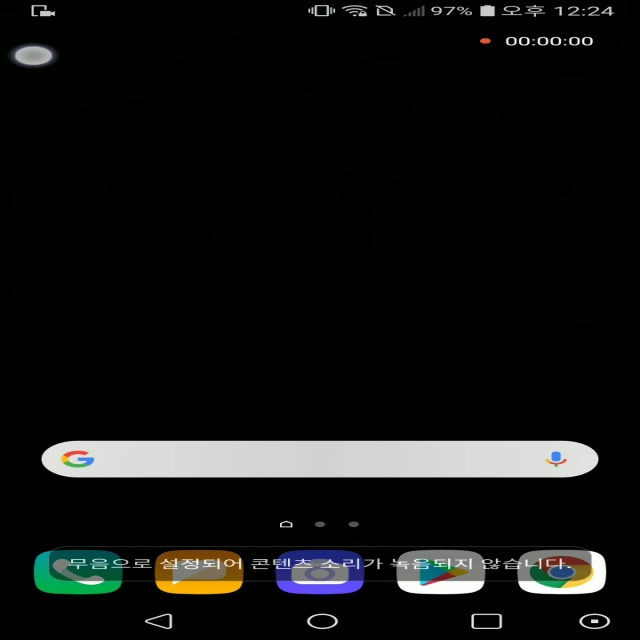Cursor: (11, 45, 56, 68)
